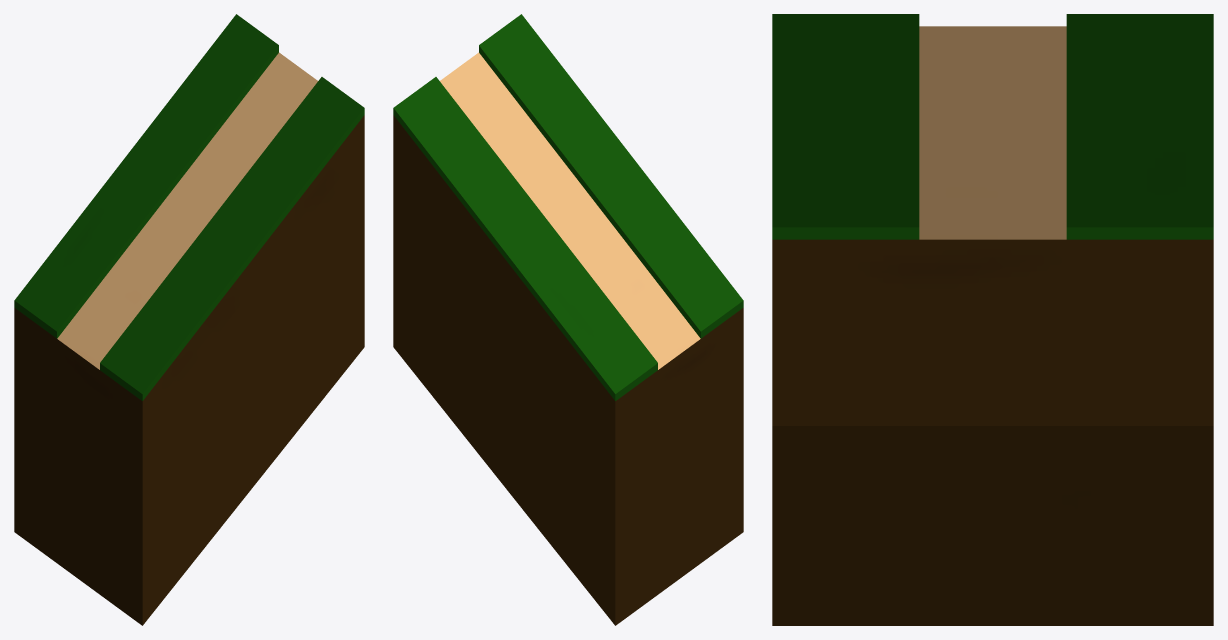
Rendered from downhill.fbx.
3 renders of one model, left to right at view 1: azimuth 30°, elevation 25°; view 2: azimuth 150°, elevation 25°; view 3: azimuth 270°, elevation 25°, orthographic. The views are drawn at different scales.
Visible parts, largest first — view 1: Cube.023; view 2: Cube.023; view 3: Cube.023.
Boxes of the visible parts, x1,y1,x2,y2 form: Cube.023: (14, 14, 364, 625); Cube.023: (393, 14, 743, 625); Cube.023: (772, 14, 1213, 625).
Size of the model in its own units: 3000 by 5992 by 3000.
Materials: 1 (1 with a texture image).
